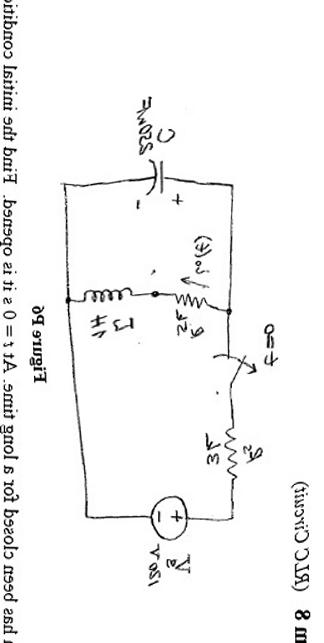Battery: (128, 478, 206, 551)
